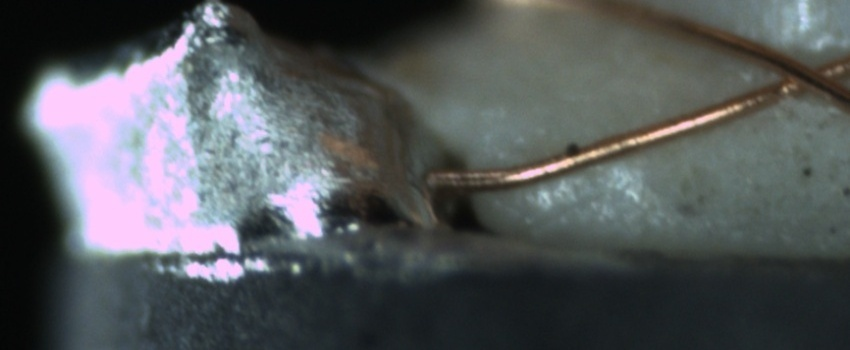CL: (755, 44, 845, 103)
